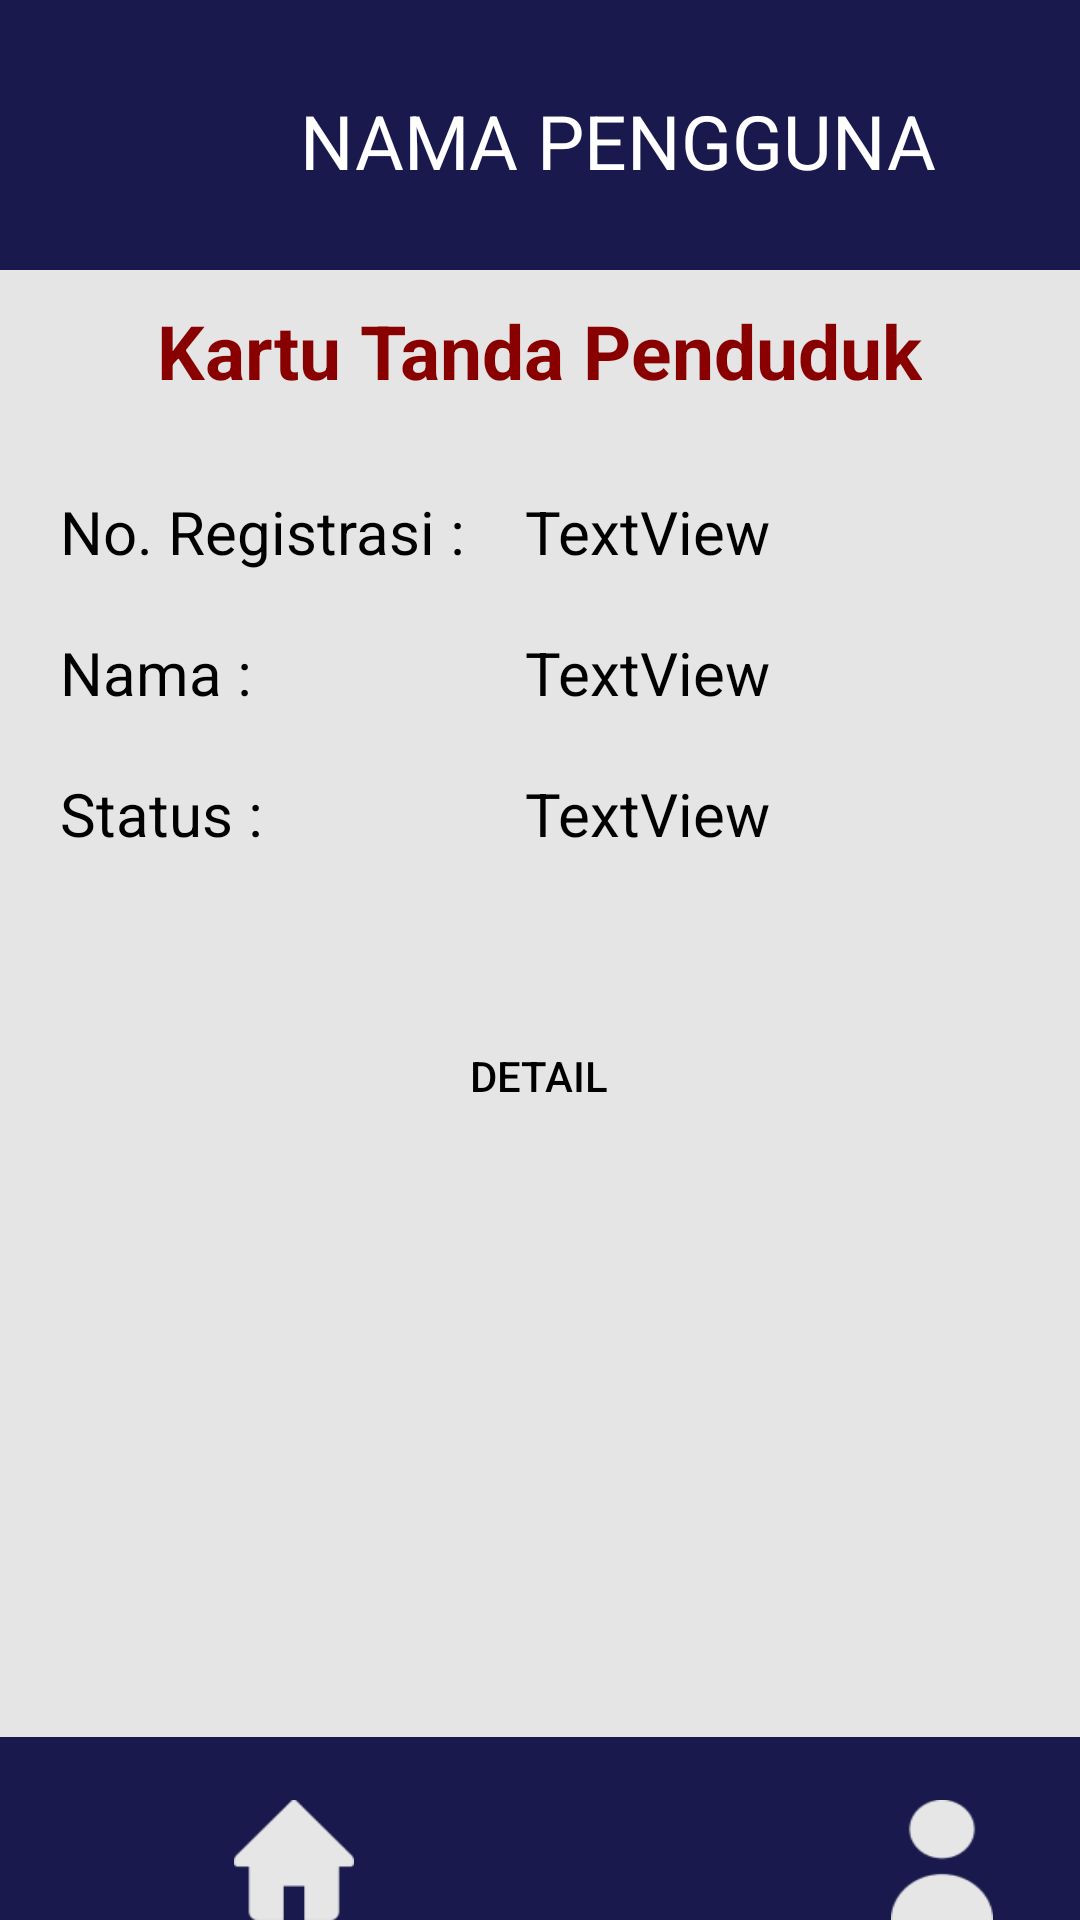

Named icons in this screenshot (1080px×1920px) and their bounding boxes, (x1, y1, x2, y2):
home: (234, 1800, 354, 1920)
orang: (891, 1800, 993, 1920)
